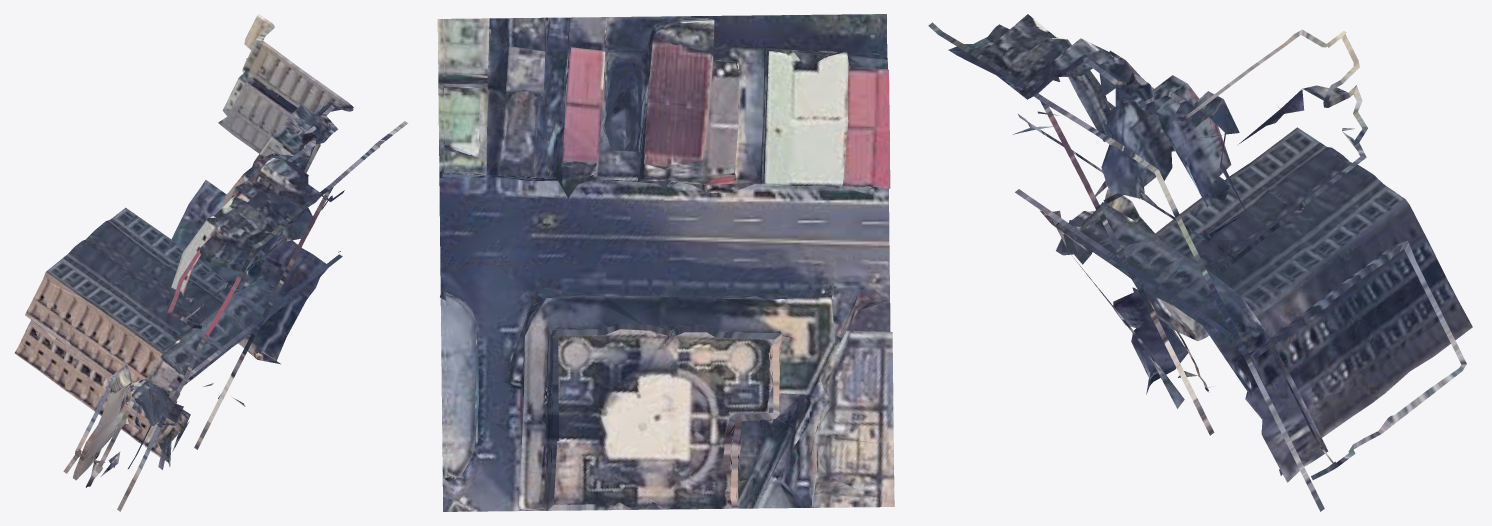
3 renders of one model, left to right at view 1: azimuth 30°, elevation 25°; view 2: azimuth 150°, elevation 25°; view 3: azimuth 270°, elevation 25°, orthographic. The views are drawn at different scales.
Bounding box in the file's own units: 82.82 × 86.85 × 90.24.
2 materials, 2 textured.
